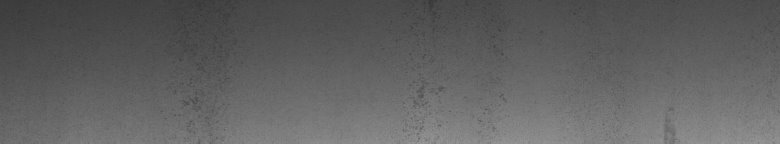ib: (402, 4, 506, 136)
